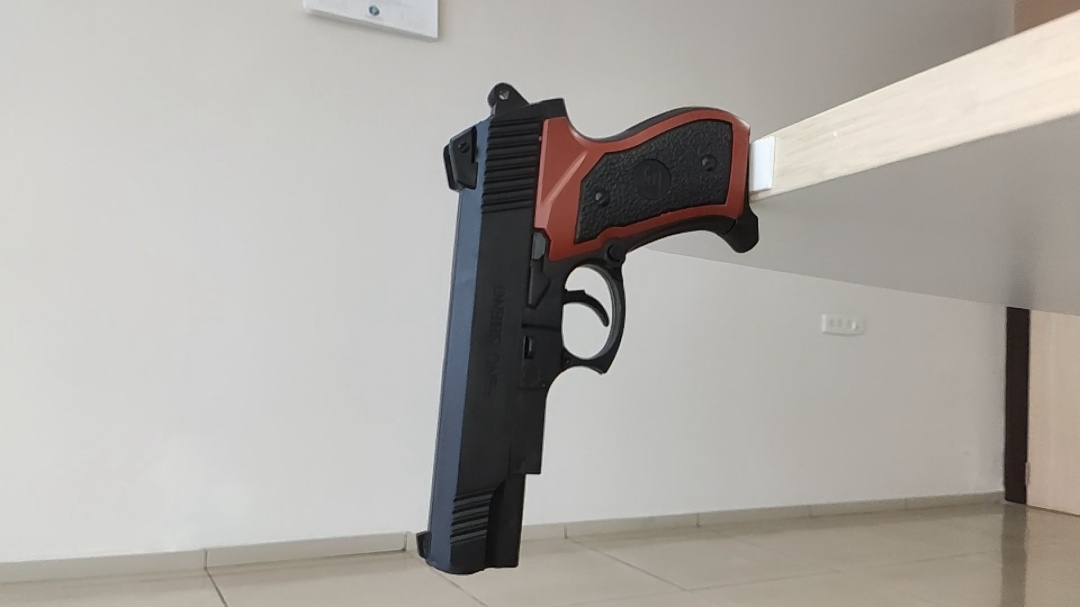gun: (413, 80, 766, 579)
